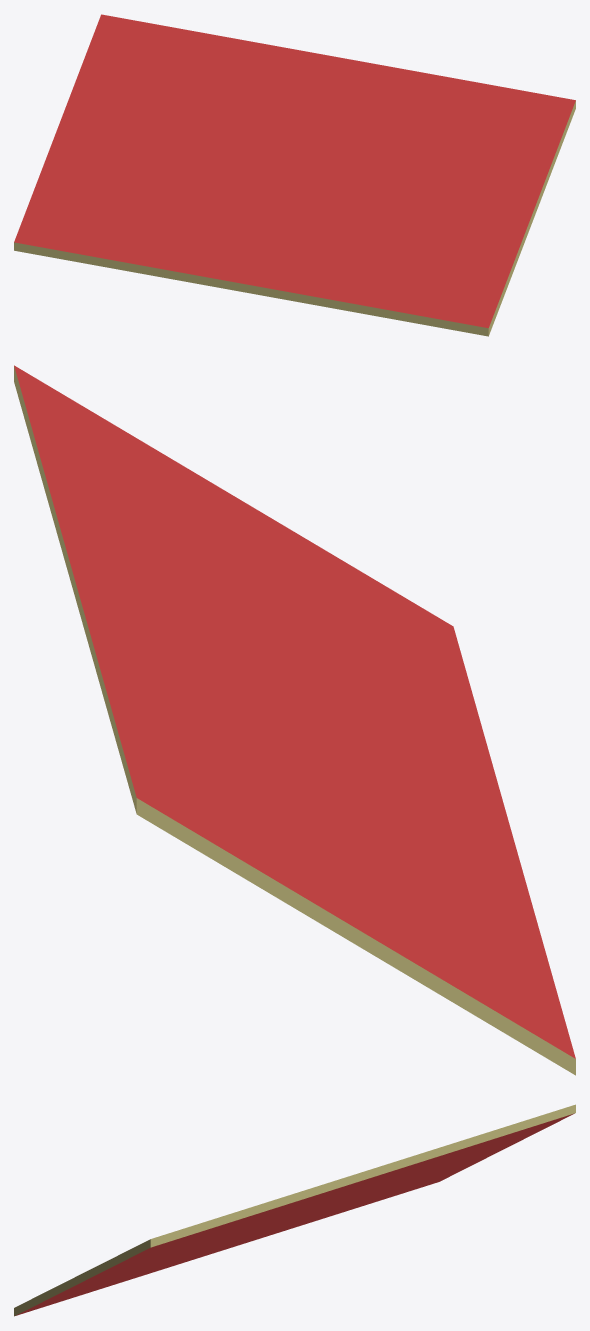
3 renders of one model, top to bottom at view 1: azimuth 30°, elevation 25°; view 2: azimuth 150°, elevation 25°; view 3: azimuth 270°, elevation 25°, orthographic. The views are drawn at different scales.
Bounding box in the file's own units: 5.32 × 5.96 × 1.81.
